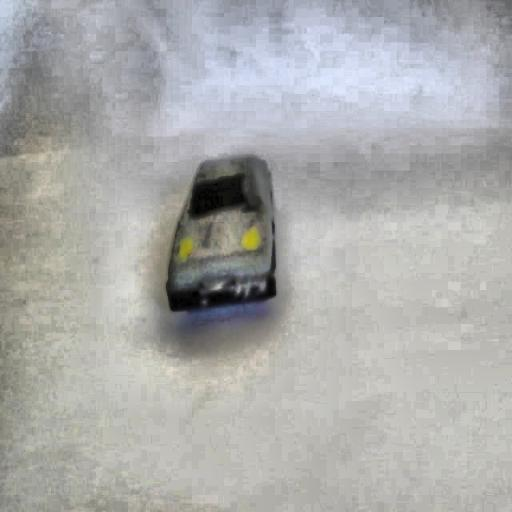normal_car: (160, 150, 282, 317)
